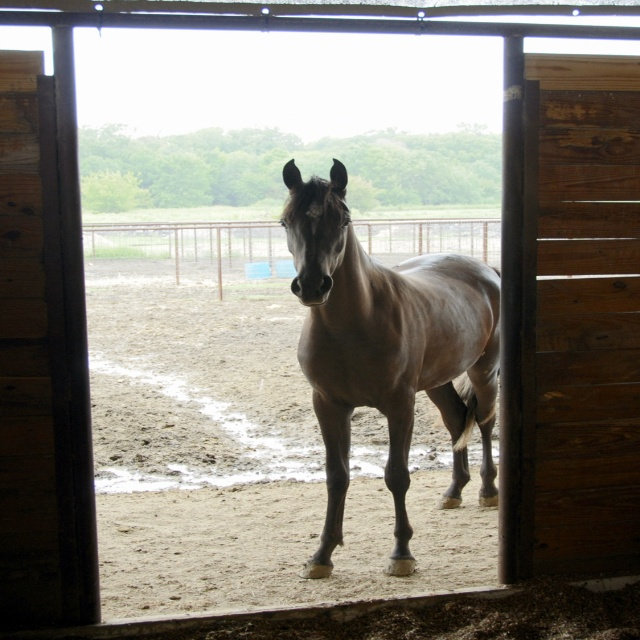Horse: (279, 160, 509, 582)
